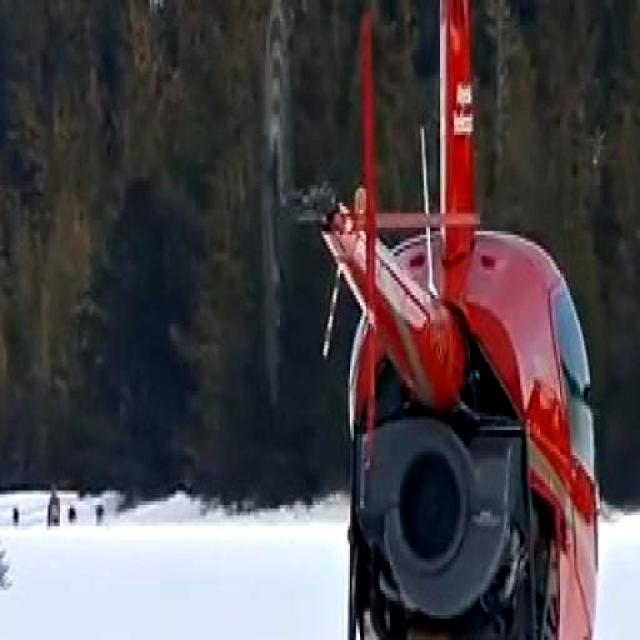drone: (229, 0, 640, 640)
